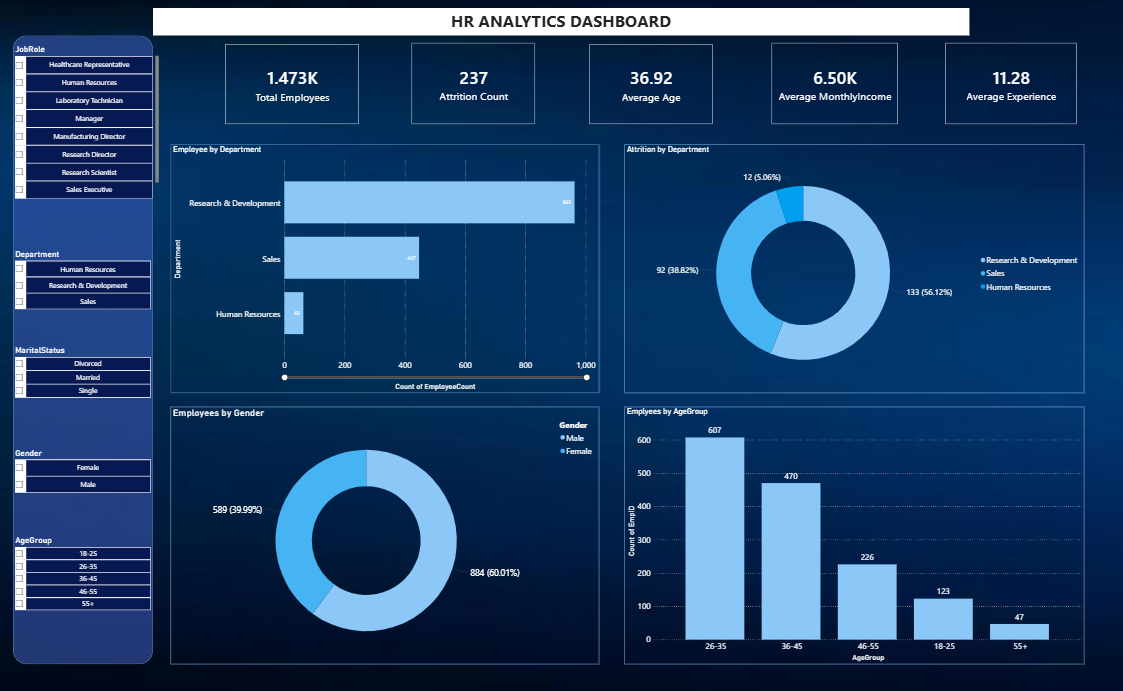

What the dashboard file says about the page in this screenshot:
{"tool":"powerbi","page":{"name":"Page 1","canvas":[2250,1400],"ordinal":0},"visuals":[{"type":"shape","box":[35,85,320,1267.5],"z":0},{"type":"cardVisual","title":"Attrition Count","fields":{"Data":["Sum(cleaned_hr_data.Attrition)"]},"box":[772.5,107.5,320,220],"z":1000},{"type":"cardVisual","title":"Average Age","fields":{"Data":["Avg(cleaned_hr_data.Age)"]},"box":[1125,107.5,317.5,217.5],"z":2000},{"type":"cardVisual","title":"Average Monthly Income","fields":{"Data":["Avg(cleaned_hr_data.MonthlyIncome)"]},"box":[1485,107.5,325,220],"z":3000},{"type":"cardVisual","title":"Average Experience","fields":{"Data":["Avg(cleaned_hr_data.TotalWorkingYears)"]},"box":[1862.5,107.5,327.5,220],"z":4000},{"type":"clusteredBarChart","title":"Employee by Department","fields":{"Y":["CountNonNull(cleaned_hr_data.EmployeeCount)"],"Category":["cleaned_hr_data.Department"]},"box":[397.5,337.5,940,485],"z":5000},{"type":"donutChart","title":"Attrition by Department","fields":{"Category":["cleaned_hr_data.Department"],"Y":["Sum(cleaned_hr_data.Attrition)"]},"box":[1372.5,337.5,817.5,485],"z":6000},{"type":"donutChart","title":"Employees by Gender","fields":{"Category":["cleaned_hr_data.Gender"],"Y":["CountNonNull(cleaned_hr_data.EmpID)"]},"box":[396.7,860,883.3,483.3],"z":7000},{"type":"columnChart","title":"Emplyees by AgeGroup","fields":{"Category":["cleaned_hr_data.AgeGroup"],"Y":["CountNonNull(cleaned_hr_data.EmpID)"]},"box":[1306.7,870,883.3,473.3],"z":8000},{"type":"listSlicer","fields":{"Values":["cleaned_hr_data.Department"]},"box":[35,540,320,330],"z":9000},{"type":"listSlicer","fields":{"Values":["cleaned_hr_data.JobRole"]},"box":[35,105,340,367.5],"z":10000},{"type":"listSlicer","fields":{"Values":["cleaned_hr_data.Gender"]},"box":[35,990,320,337.5],"z":11000},{"type":"listSlicer","fields":{"Values":["cleaned_hr_data.MaritalStatus"]},"box":[35,765,320,287.5],"z":12000},{"type":"listSlicer","fields":{"Values":["cleaned_hr_data.AgeGroup"]},"box":[35,1160,320,270],"z":13000},{"type":"cardVisual","title":"Total Employees","fields":{"Data":["CountNonNull(cleaned_hr_data.EmployeeCount)"]},"box":[397.5,107.5,340,217.5],"z":14000},{"type":"textbox","box":[356.1,22,1474.5,64],"z":15000}]}

Visuals, with their boxes in screenshot pixels (x1, y1, x2, y2), scaled from the page's 2250x1400 canvas onto the 1123x691 screenshot:
shape: rect(17, 42, 177, 668)
"Attrition Count" cardVisual: rect(386, 53, 545, 162)
"Average Age" cardVisual: rect(562, 53, 720, 160)
"Average Monthly Income" cardVisual: rect(741, 53, 903, 162)
"Average Experience" cardVisual: rect(930, 53, 1093, 162)
"Employee by Department" clusteredBarChart: rect(198, 167, 668, 406)
"Attrition by Department" donutChart: rect(685, 167, 1093, 406)
"Employees by Gender" donutChart: rect(198, 424, 639, 663)
"Emplyees by AgeGroup" columnChart: rect(652, 429, 1093, 663)
listSlicer - cleaned_hr_data.Department: rect(17, 267, 177, 429)
listSlicer - cleaned_hr_data.JobRole: rect(17, 52, 187, 233)
listSlicer - cleaned_hr_data.Gender: rect(17, 489, 177, 655)
listSlicer - cleaned_hr_data.MaritalStatus: rect(17, 378, 177, 519)
listSlicer - cleaned_hr_data.AgeGroup: rect(17, 573, 177, 690)
"Total Employees" cardVisual: rect(198, 53, 368, 160)
textbox: rect(178, 11, 914, 42)
